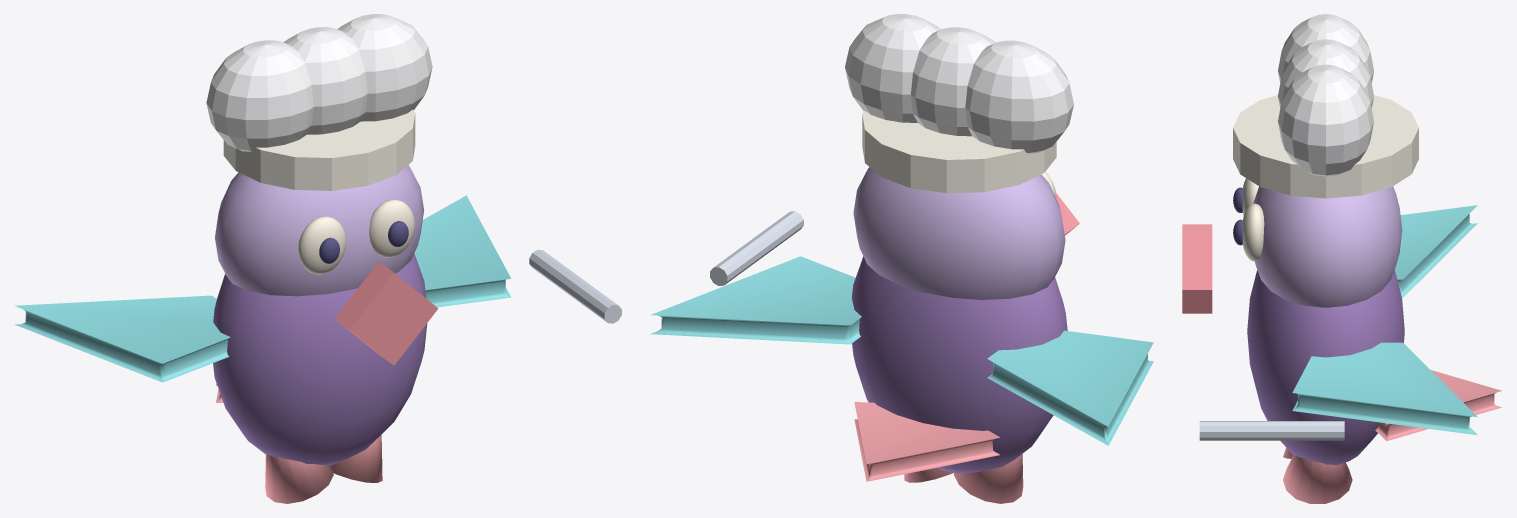
Rendered from opera_rival_chef.glb.
The picture shows the model from 3 angles, left to right: view 1: azimuth 30°, elevation 25°; view 2: azimuth 150°, elevation 25°; view 3: azimuth 270°, elevation 25°; orthographic projection. The views are drawn at different scales.
Parts seen in each view (by area): view 1: RivalImpBody, ChefToquePuff0, ChefToqueBand, ChefToquePuff2, ChefToquePuff1, ChefNeckerchief, ChefWhisk; view 2: RivalImpBody, ChefToquePuff0, ChefToqueBand, ChefToquePuff2, ChefToquePuff1, ChefWhisk; view 3: RivalImpBody, ChefToqueBand, ChefToquePuff2, ChefWhisk, ChefNeckerchief, ChefToquePuff1, ChefToquePuff0.
Boxes of the visible parts, bbox=[...] form: RivalImpBody: bbox=[14, 165, 511, 503]; ChefToquePuff0: bbox=[206, 40, 313, 151]; ChefToqueBand: bbox=[223, 109, 415, 190]; ChefToquePuff2: bbox=[337, 14, 432, 121]; ChefToquePuff1: bbox=[283, 27, 367, 134]; ChefNeckerchief: bbox=[334, 261, 438, 365]; ChefWhisk: bbox=[529, 249, 621, 323]; RivalImpBody: bbox=[650, 167, 1153, 503]; ChefToquePuff0: bbox=[965, 40, 1073, 153]; ChefToqueBand: bbox=[862, 111, 1056, 193]; ChefToquePuff2: bbox=[845, 14, 941, 122]; ChefToquePuff1: bbox=[910, 27, 995, 136]; ChefWhisk: bbox=[710, 211, 803, 285]; RivalImpBody: bbox=[1233, 178, 1501, 503]; ChefToqueBand: bbox=[1233, 95, 1418, 198]; ChefToquePuff2: bbox=[1278, 64, 1373, 176]; ChefWhisk: bbox=[1199, 421, 1344, 440]; ChefNeckerchief: bbox=[1182, 224, 1212, 313]; ChefToquePuff1: bbox=[1278, 39, 1373, 107]; ChefToquePuff0: bbox=[1278, 14, 1373, 82].
Size of the model in its own units: 6.19 by 5.77 by 3.86.
